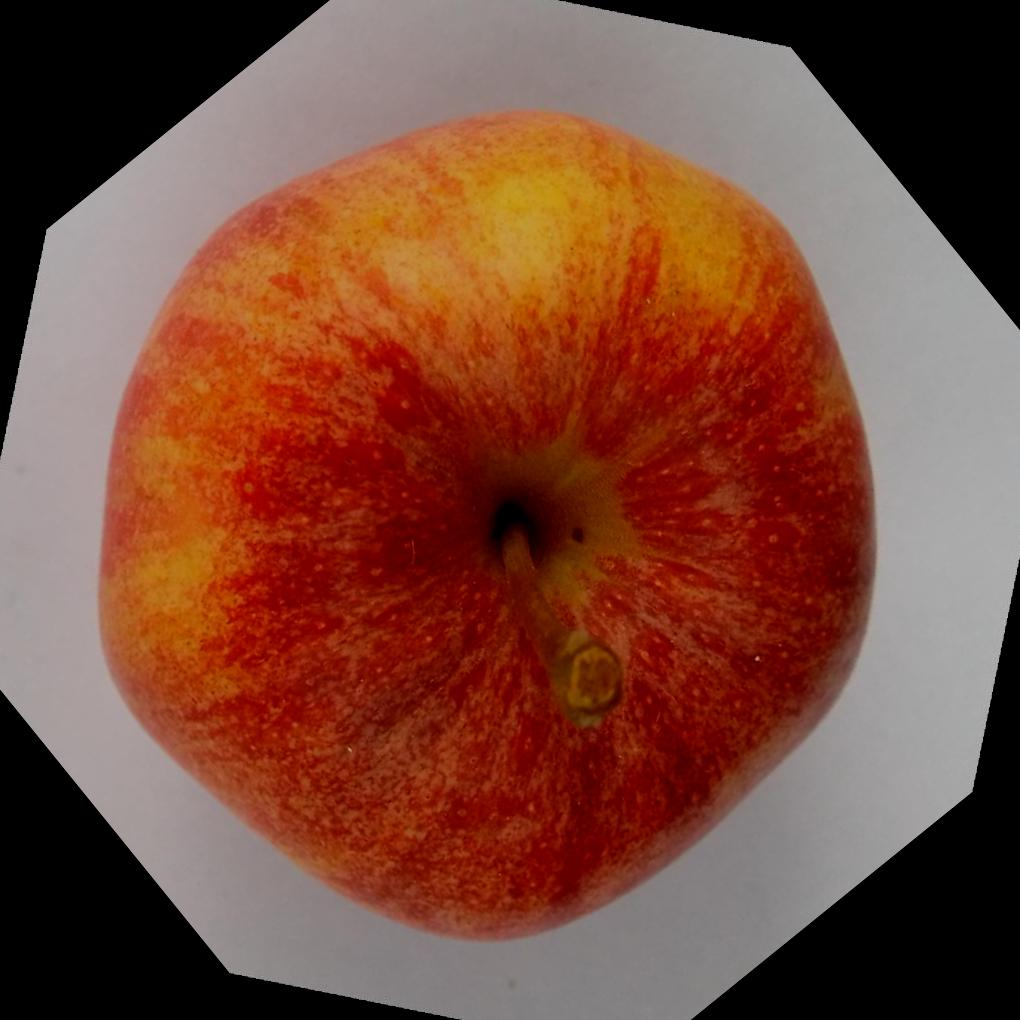FreshGuava: (89, 108, 877, 947)
